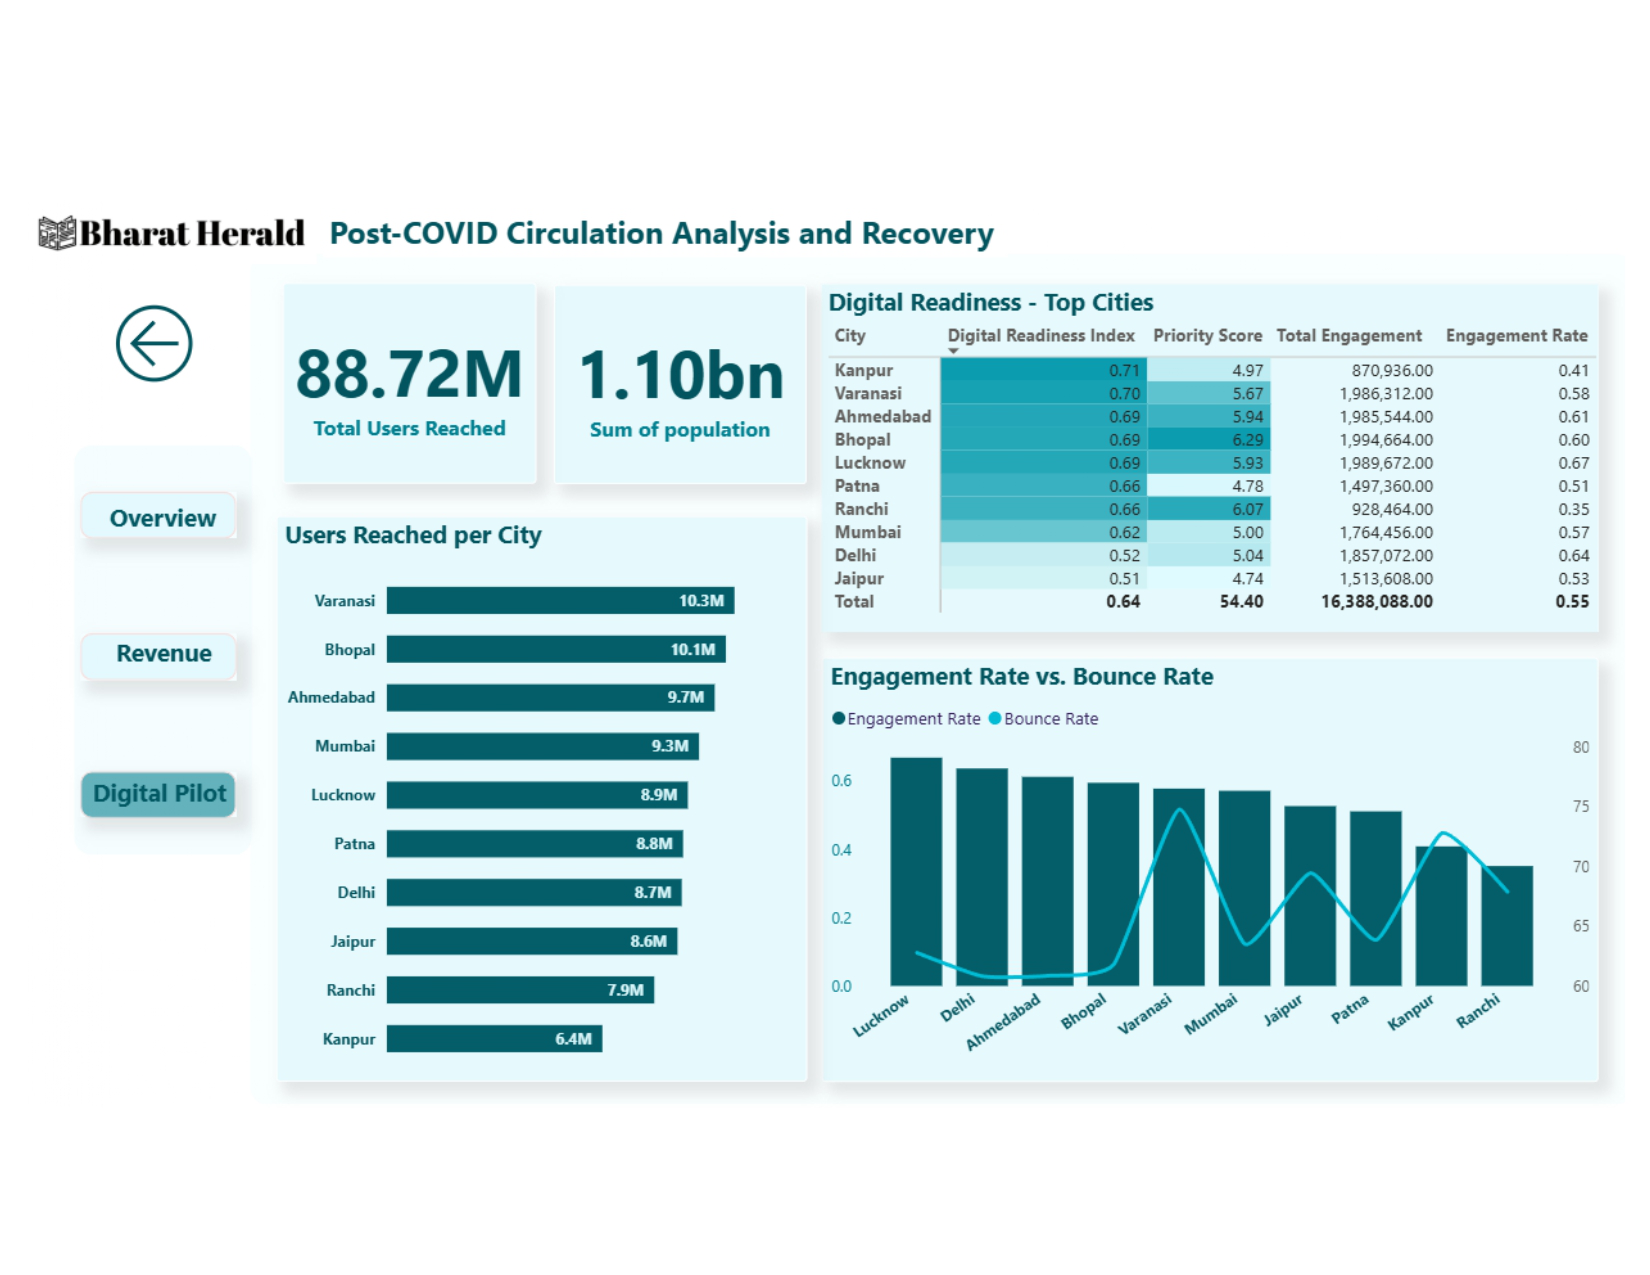

What the dashboard file says about the page in this screenshot:
{"tool":"powerbi","page":{"name":"Digital Pilot Metrics","canvas":[1280,720],"ordinal":2},"visuals":[{"type":"group","id":"g1","title":"Group 1","box":[41.2,50,1214.6,661.7],"z":0},{"type":"shape","box":[41.2,198.9,138.5,318.6],"z":0,"group":"g1"},{"type":"shape","box":[179.2,50,1076.7,661.7],"z":1000,"group":"g1"},{"type":"lineStackedColumnComboChart","title":"Engagement Rate vs. Bounce Rate","fields":{"Category":["bharat_herald vw_digital_readiness.city_name"],"Y":["Avg(bharat_herald vw_digital_readiness.engagement_rate)"],"Y2":["Avg(bharat_herald vw_digital_readiness.bounce_rate)1"]},"box":[623.3,363.3,605,330],"z":1000},{"type":"card","fields":{"Values":["Sum(bharat_herald vw_digital_readiness.total_users_reached)"]},"box":[204.3,72.7,197.4,155.8],"z":2000},{"type":"clusteredBarChart","title":"Users Reached per City","fields":{"Category":["bharat_herald vw_digital_readiness.city_name"],"Y":["Sum(bharat_herald vw_digital_readiness.total_users_reached)"]},"box":[198.3,253.3,413.3,440],"z":3000},{"type":"card","fields":{"Values":["Sum(bharat_herald vw_digital_readiness.population)"]},"box":[415,73.3,196.7,155],"z":4000},{"type":"pivotTable","title":"Digital Readiness - Top Cities","fields":{"Rows":["bharat_herald vw_digital_readiness.city_name"],"Values":["Avg(bharat_herald vw_digital_relaunch_prioritization.digital_readiness_index)","Sum(bharat_herald vw_digital_relaunch_prioritization.priority_score)","Sum(bharat_herald vw_digital_relaunch_prioritization.total_engagement)","Avg(bharat_herald vw_digital_readiness.engagement_rate)"]},"box":[623.3,73.3,605,270],"z":5000},{"type":"shape","box":[46.8,452,121.2,36.4],"z":6000},{"type":"shape","box":[46.8,235.5,121.2,36.4],"z":7000},{"type":"textbox","box":[55.4,237.2,110.8,36.4],"z":8000},{"type":"shape","box":[46.7,345,121.7,36.7],"z":9000},{"type":"actionButton","box":[62.3,239,105.6,31.2],"z":10000},{"type":"textbox","box":[63.8,346.2,90,35],"z":11000},{"type":"actionButton","box":[57.1,346.3,105.6,31.2],"z":12000},{"type":"textbox","box":[46.7,451.7,123.3,36.7],"z":13000},{"type":"image","box":[0,1.7,235,61.7],"z":14000},{"type":"actionButton","box":[61.7,456.7,95,25],"z":15000},{"type":"actionButton","box":[66.7,81.7,75,76.7],"z":16000},{"type":"textbox","box":[235,11.2,567.5,42.5],"z":17000}]}

Visuals, with their boxes on the page's 1280x720 design canvas (x1, y1, x2, y2). These are canvas units, not pixel positions in the 1650x1275 screenshot, which may show the page scaled, cropped or inside an application window:
"Group 1" group: 41/50/1256/712
shape: 41/199/180/518
shape: 179/50/1256/712
"Engagement Rate vs. Bounce Rate" lineStackedColumnComboChart: 623/363/1228/693
card - Sum(bharat_herald vw_digital_readiness.total_users_reached): 204/73/402/228
"Users Reached per City" clusteredBarChart: 198/253/612/693
card - Sum(bharat_herald vw_digital_readiness.population): 415/73/612/228
"Digital Readiness - Top Cities" pivotTable: 623/73/1228/343
shape: 47/452/168/488
shape: 47/236/168/272
textbox: 55/237/166/274
shape: 47/345/168/382
actionButton: 62/239/168/270
textbox: 64/346/154/381
actionButton: 57/346/163/378
textbox: 47/452/170/488
image: 0/2/235/63
actionButton: 62/457/157/482
actionButton: 67/82/142/158
textbox: 235/11/802/54
